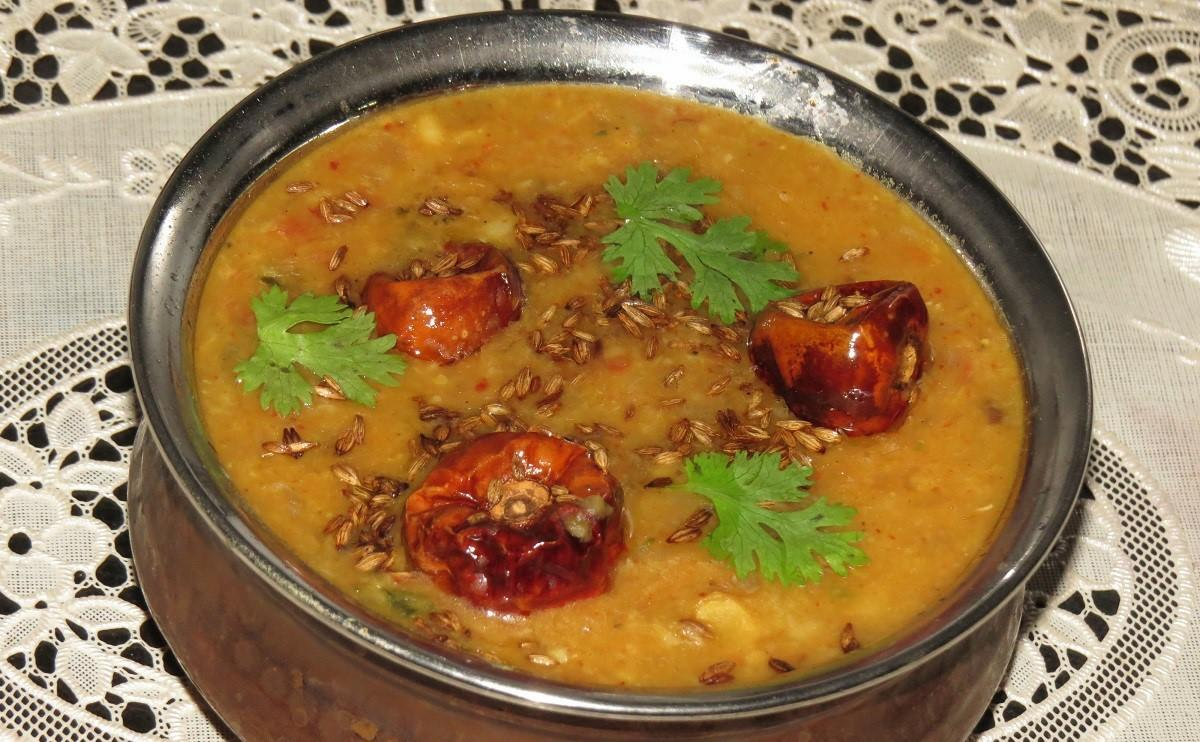Dal: (195, 85, 1024, 690)
